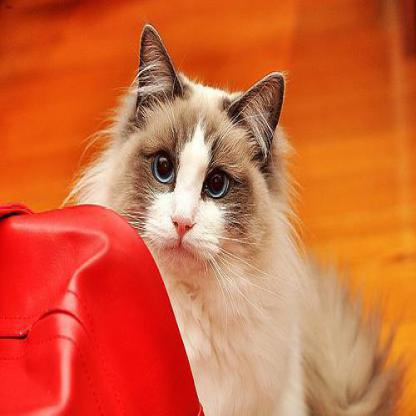cat: (82, 24, 396, 414)
